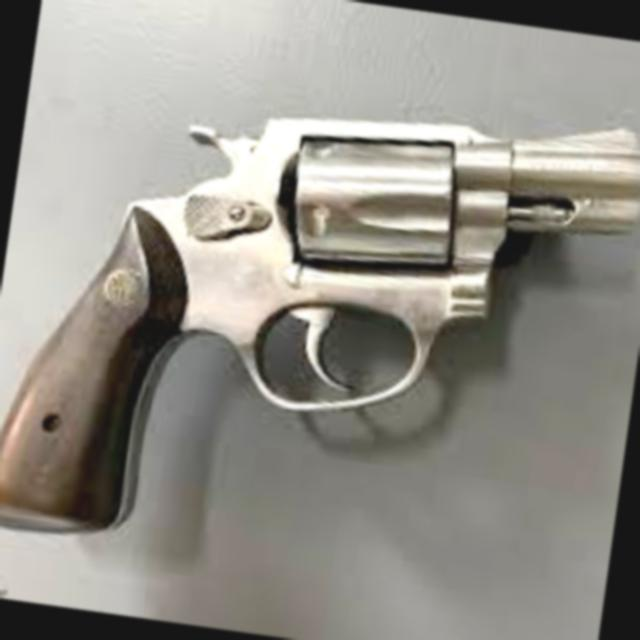revolver: (0, 8, 640, 616)
